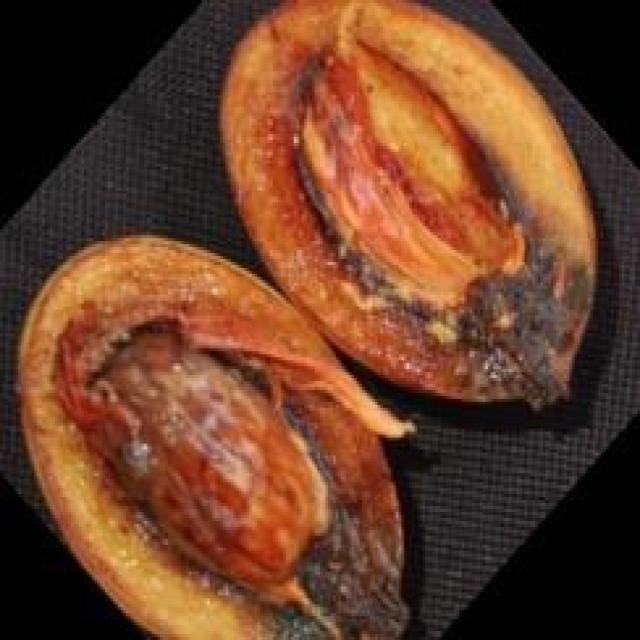damaged: (16, 235, 414, 637), (218, 0, 598, 414)
